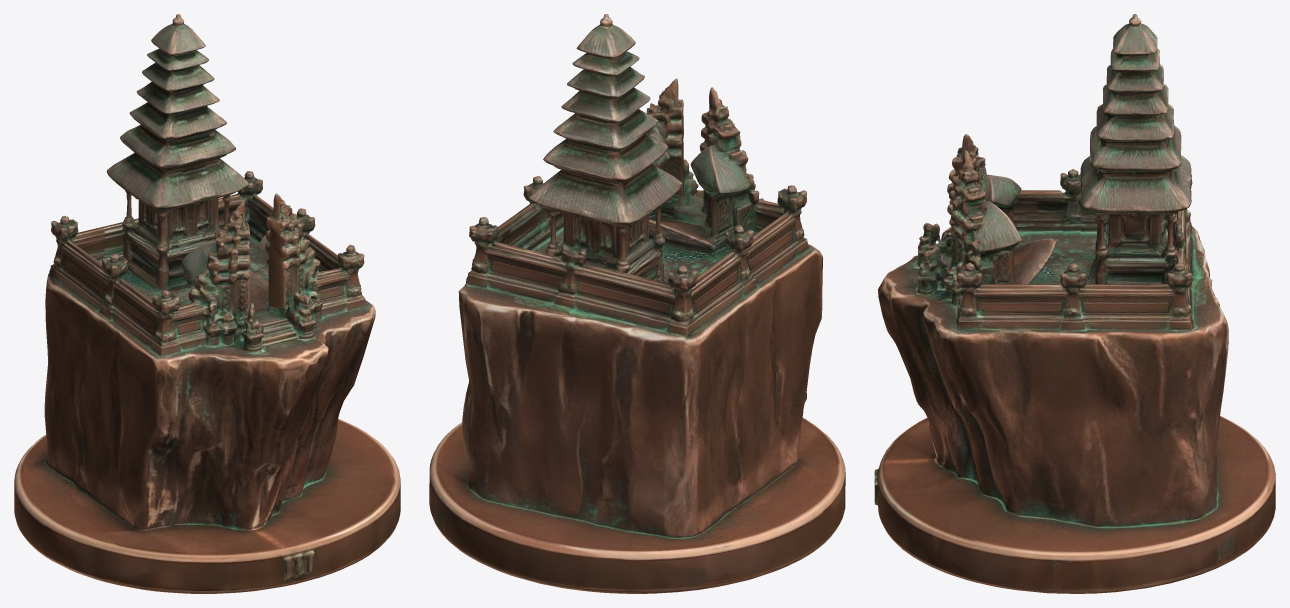
File: bali_uluwatu_meshy.glb
3 views of the same model, side by side, from view 1: azimuth 30°, elevation 25°; view 2: azimuth 150°, elevation 25°; view 3: azimuth 270°, elevation 25° (orthographic). The views are drawn at different scales.
Parts seen in each view (by area): view 1: Mesh_0; view 2: Mesh_0; view 3: Mesh_0.
Boxes of the visible parts, <box> form: Mesh_0: <box>14,14,400,593</box>; Mesh_0: <box>429,14,845,593</box>; Mesh_0: <box>874,14,1275,593</box>.
Bounding box in the file's own units: 1.4 × 1.91 × 1.4.
Materials: 1 (1 with a texture image).
